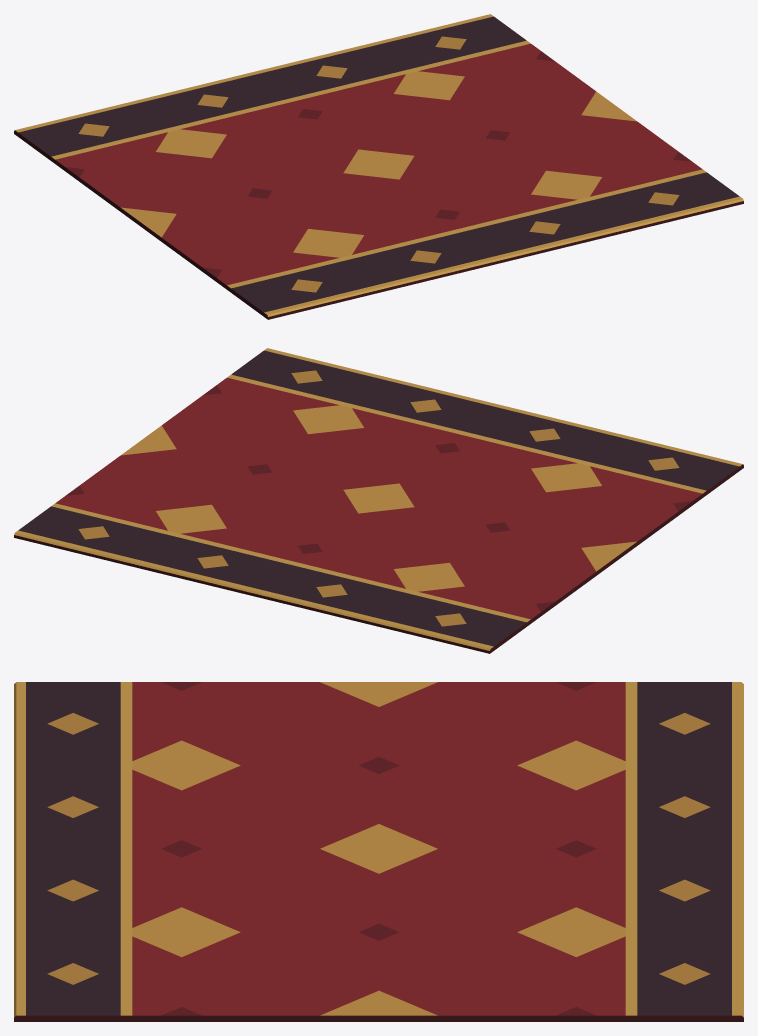
File: carpet_red_runner_A.glb
The picture shows the model from 3 angles, top to bottom: view 1: azimuth 30°, elevation 25°; view 2: azimuth 150°, elevation 25°; view 3: azimuth 270°, elevation 25°; orthographic projection. The views are drawn at different scales.
Parts seen in each view (by area): view 1: Item; view 2: Item; view 3: Item.
Boxes of the visible parts, x1,y1,x2,y2 form: Item: (14,14,743,319); Item: (14,348,743,653); Item: (14,682,743,1021).
Bounding box in the file's own units: 4 × 0.035 × 3.7.
1 material, 1 textured.
